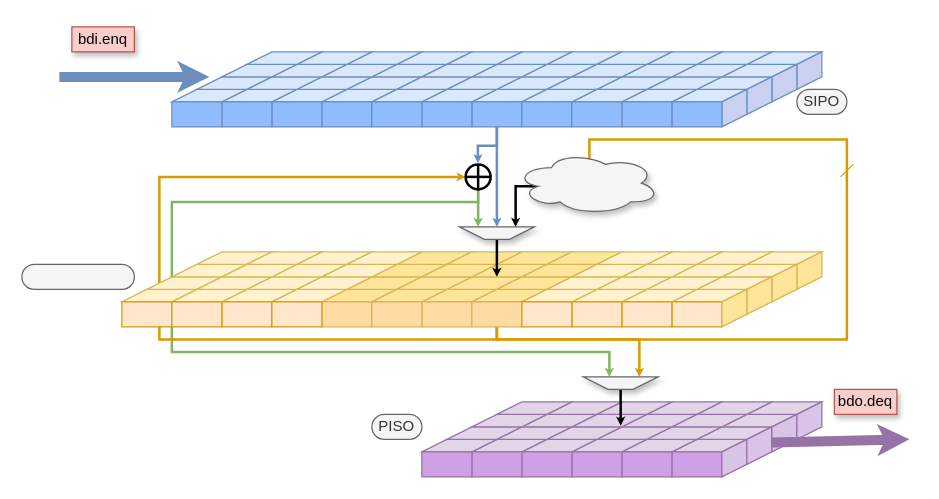
Image size: 939x499. Some labels were removed from this diagram. Each missing label, with the centre of its shape:
Permutation Round: the point at 588,184
Xoodoo State: the point at 77,276
